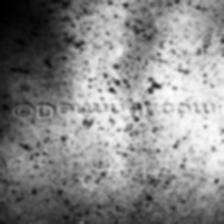Unclassified: (76, 118, 98, 134), (11, 37, 32, 50), (144, 82, 162, 94)
